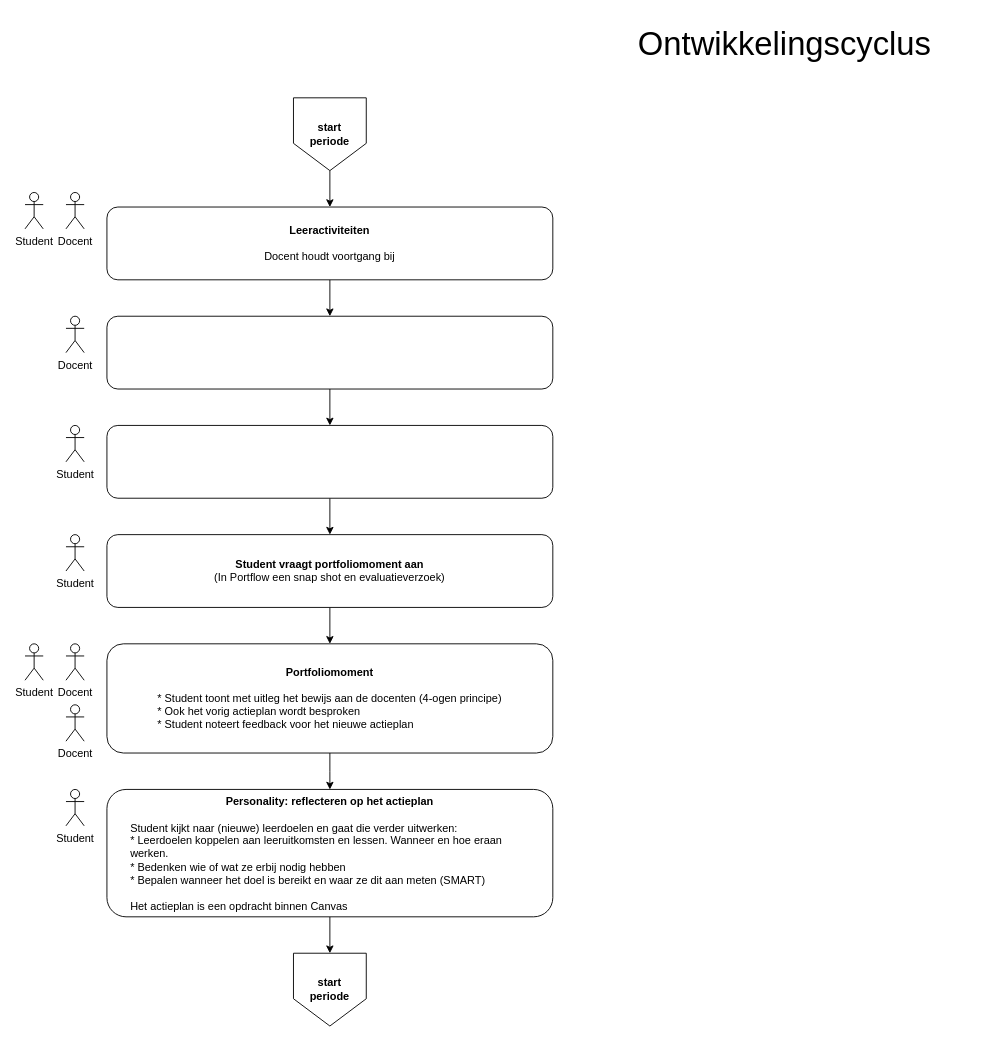
Some shapes in this 1006 by 1042 pixel diagram are drawn without their labels. Each missing label, with the box of its shape:
Bewijs koppelen aan leeruitkomsten (in Portflow collecties en doelen): (106, 425, 553, 498)
Feedback vastleggen Docent legt feedback vast in de opdracht (in Canvas).: (106, 315, 553, 389)
